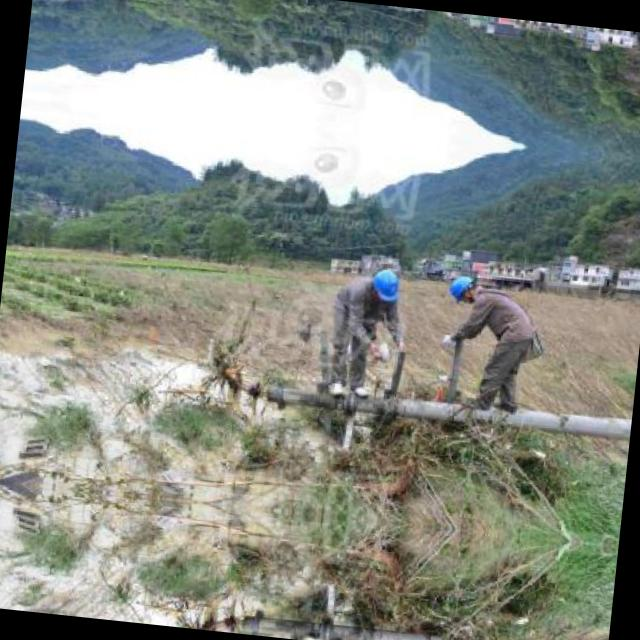helmet: (442, 270, 482, 304), (368, 262, 401, 302)
